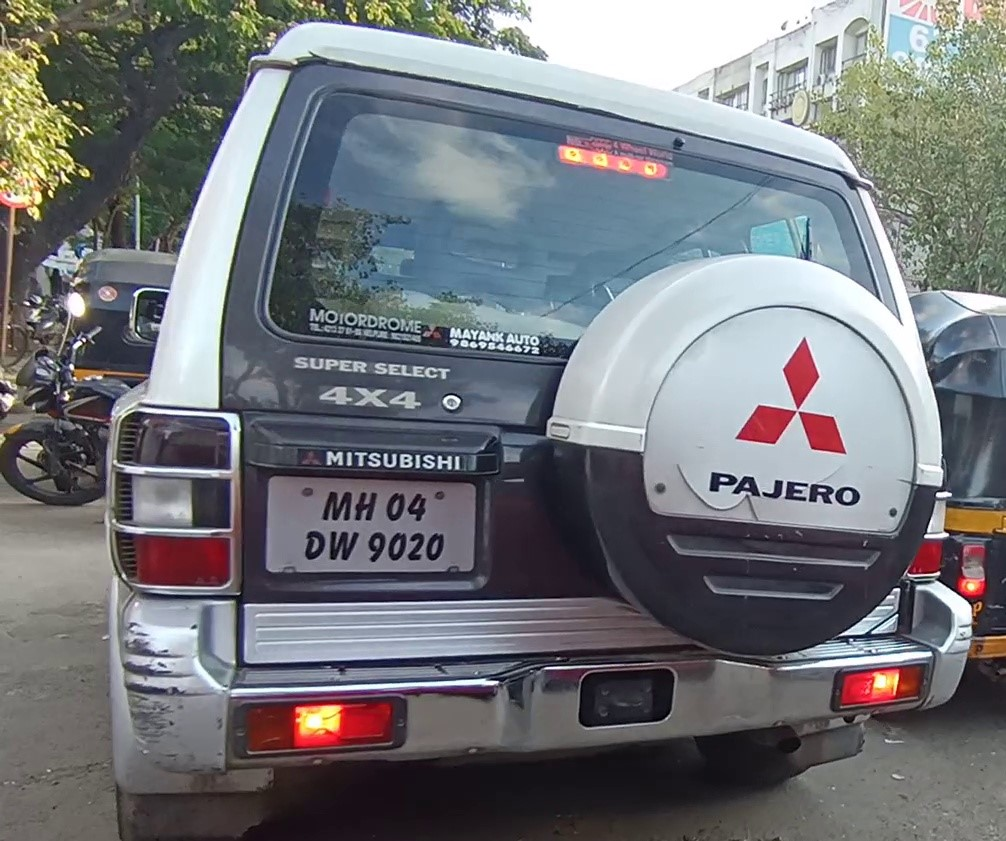MH04DW9020: (262, 476, 476, 576)
